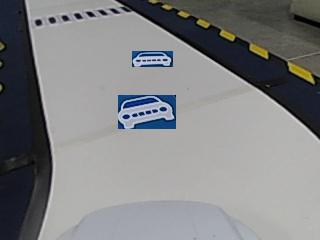crosswalk: (32, 3, 132, 26)
